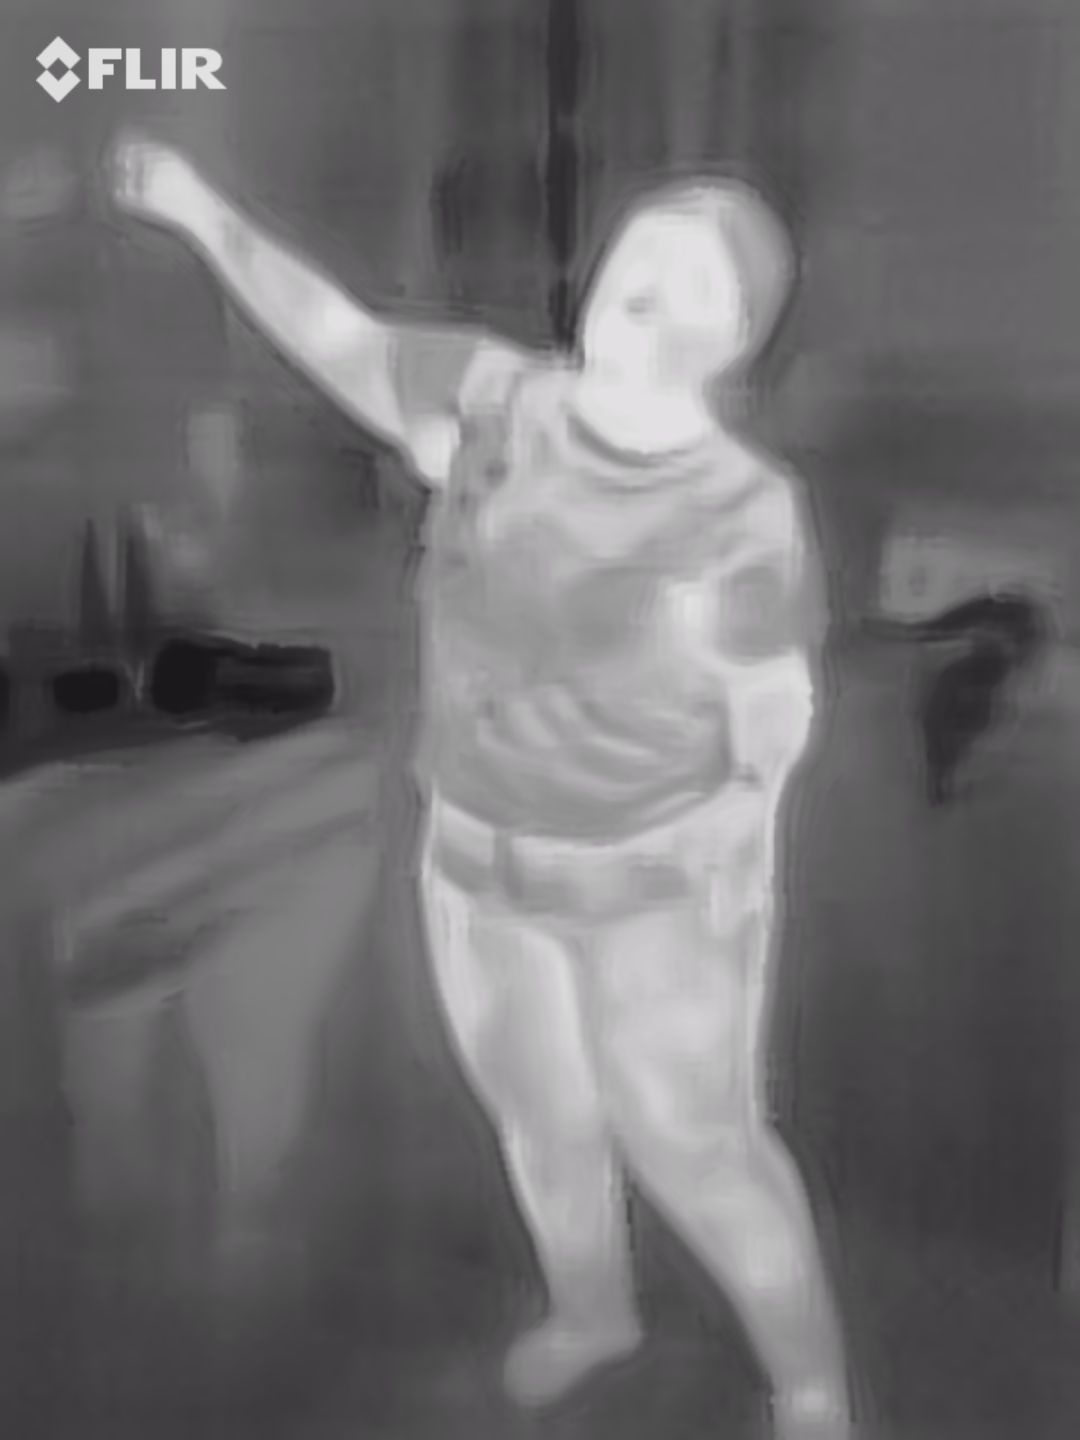head: (573, 171, 791, 401)
